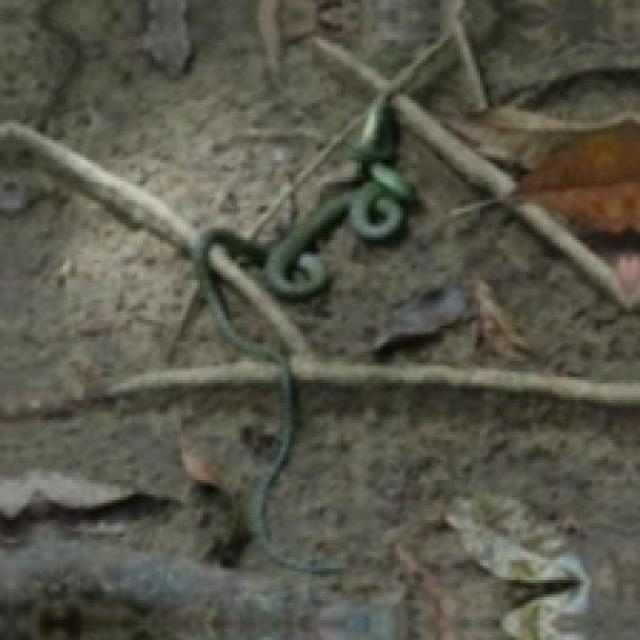paradise tree snake: (206, 246, 637, 406), (280, 411, 451, 637), (0, 123, 191, 249), (449, 511, 586, 637)
